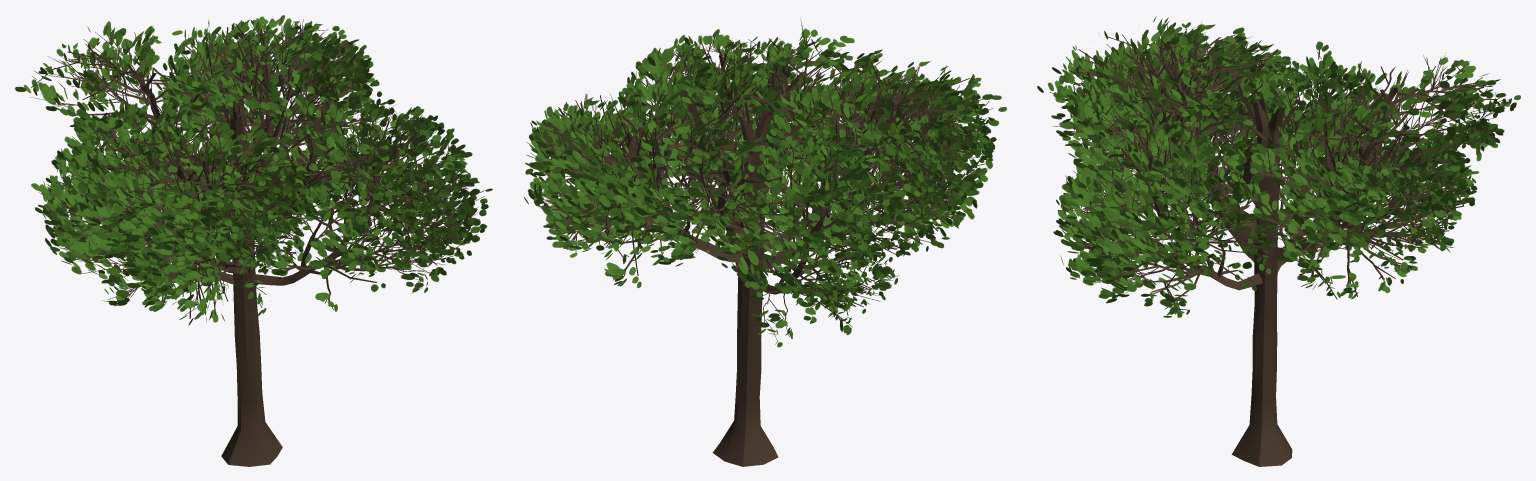
3 renders of one model, left to right at view 1: azimuth 30°, elevation 25°; view 2: azimuth 150°, elevation 25°; view 3: azimuth 270°, elevation 25°, orthographic.
Visible parts, largest first — view 1: oak 01.001_trunk_Mat.001_0.012; view 2: oak 01.001_trunk_Mat.001_0.012; view 3: oak 01.001_trunk_Mat.001_0.012.
Part boxes in pixels (box(x1,y1,x2,y2)): oak 01.001_trunk_Mat.001_0.012: box(14, 15, 492, 466); oak 01.001_trunk_Mat.001_0.012: box(524, 19, 1006, 466); oak 01.001_trunk_Mat.001_0.012: box(1037, 16, 1520, 466).
Size of the model in its own units: 5.59 by 5.02 by 6.04.
Materials: 2 (1 with a texture image).
